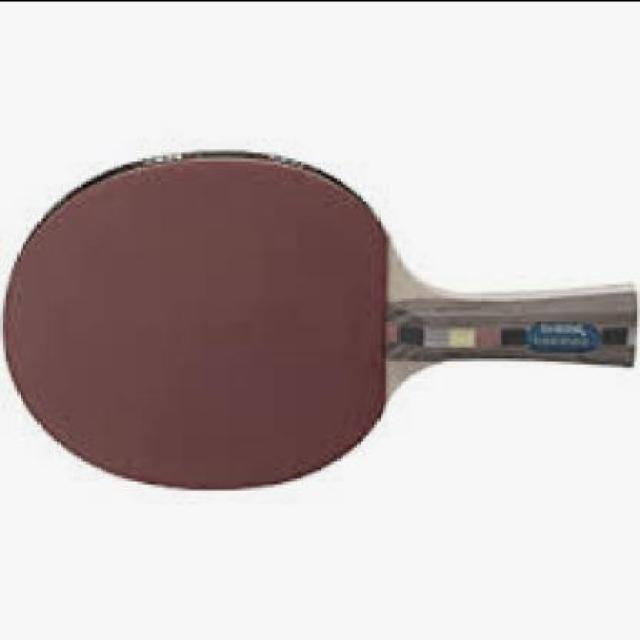table_tennis_racket: (0, 144, 414, 496)
